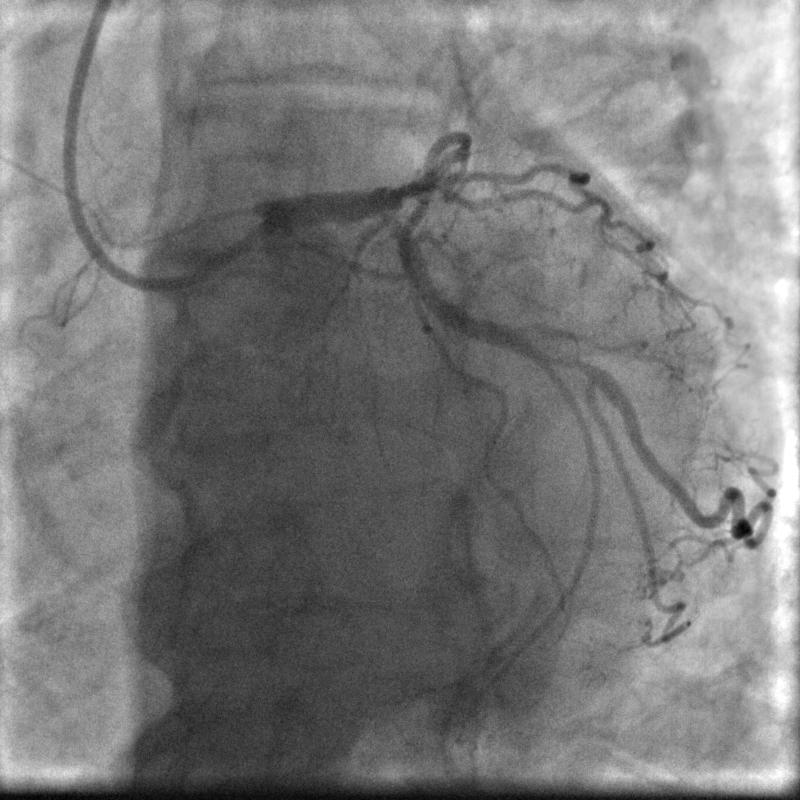Stenosis: (546, 347, 592, 375)
